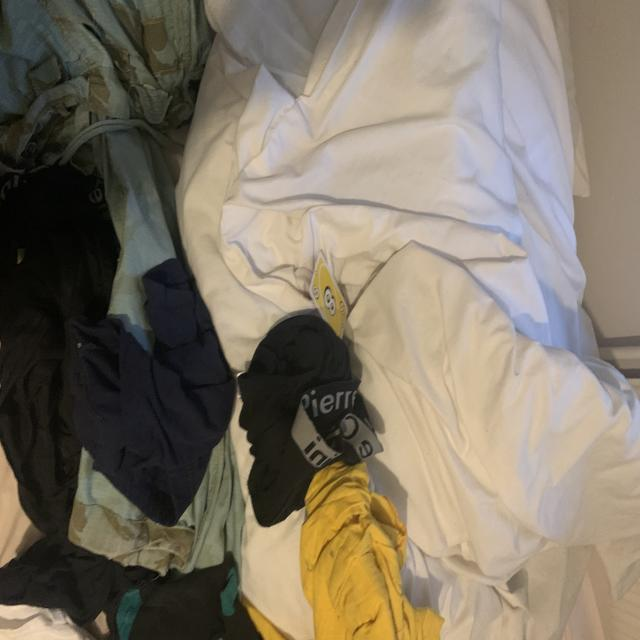lyellow-8: (309, 284, 321, 302)
